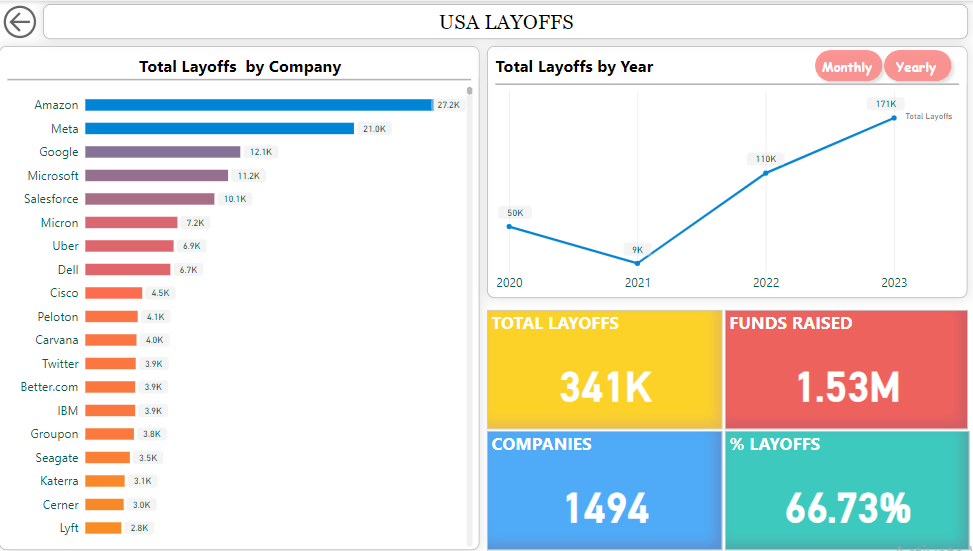

Layout of this report page (visuals, bound fields, positions):
{"tool":"powerbi","page":{"name":"USA","canvas":[1280,720],"ordinal":1},"visuals":[{"type":"clusteredBarChart","fields":{"Category":["USA.company"],"Y":["Sum(USA.total_laid_off)"]},"box":[0,59,629.3,659.5],"z":0},{"type":"actionButton","box":[0,0,57.6,54.7],"z":2000},{"type":"lineChart","fields":{"Y":["Sum(USA.total_laid_off)"],"Category":["USA.Year"]},"box":[639.4,59,629.3,329.8],"z":3000},{"type":"actionButton","box":[1059,55,106.6,59],"z":4000},{"type":"actionButton","box":[1149.1,54.7,106.6,59],"z":5000},{"type":"card","title":"FUNDS RAISED","fields":{"Values":["Sum(USA.funds_raised)"]},"box":[950.4,405,318.2,155.5],"z":6000},{"type":"card","title":"TOTAL LAYOFFS","fields":{"Values":["Sum(USA.total_laid_off)"]},"box":[639.4,405,308.2,155.5],"z":7000},{"type":"card","title":"COMPANIES","fields":{"Values":["Count(USA.company)"]},"box":[639.4,563,308.2,155.5],"z":8000},{"type":"card","title":"% LAYOFFS","fields":{"Values":["Sum(USA.% LayOffs)"]},"box":[950.4,563,319.7,155.5],"z":9000},{"type":"textbox","box":[57.6,4.3,1211,46.1],"z":10000}]}

Visuals, with their boxes in screenshot pixels (x1, y1, x2, y2), scaled from the page's 1280x720 canvas onto the 973x551 screenshot:
clusteredBarChart - USA.company x Sum(USA.total_laid_off): select_region(0, 45, 478, 550)
actionButton: select_region(0, 0, 44, 42)
lineChart - Sum(USA.total_laid_off) x USA.Year: select_region(486, 45, 964, 298)
actionButton: select_region(805, 42, 886, 87)
actionButton: select_region(873, 42, 955, 87)
"FUNDS RAISED" card: select_region(722, 310, 964, 429)
"TOTAL LAYOFFS" card: select_region(486, 310, 720, 429)
"COMPANIES" card: select_region(486, 431, 720, 550)
"% LAYOFFS" card: select_region(722, 431, 965, 550)
textbox: select_region(44, 3, 964, 39)
